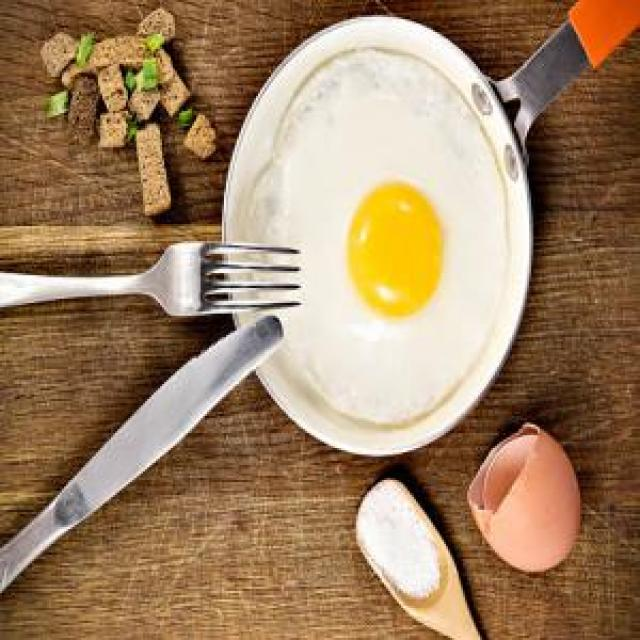knife: (0, 314, 288, 612)
